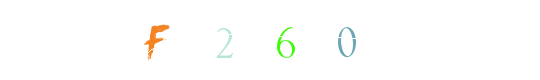0: (255, 0, 335, 80)
2: (230, 0, 310, 80)
6: (245, 0, 325, 80)
F: (115, 0, 195, 80)
